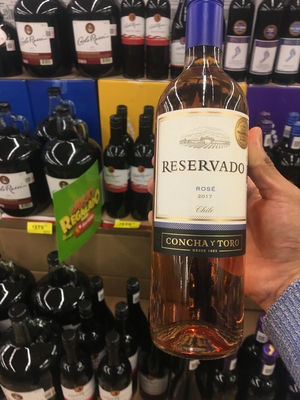reservado rose: (147, 1, 275, 364)
